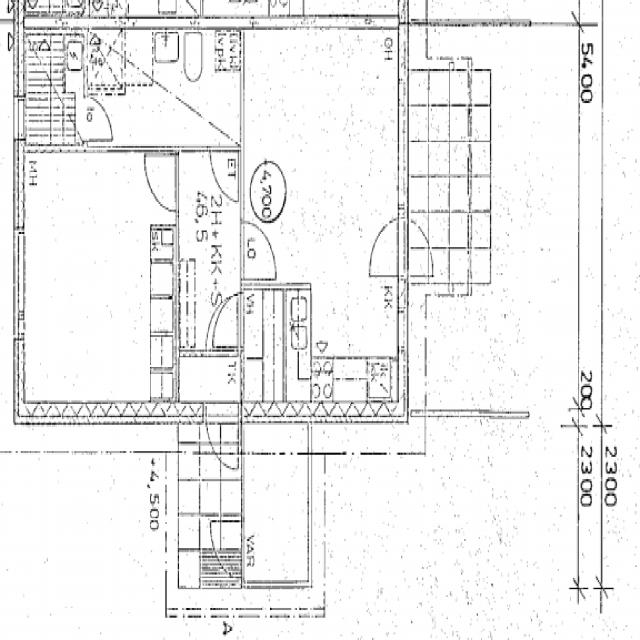door: (364, 218, 408, 276), (398, 218, 442, 276), (206, 400, 238, 477), (240, 223, 278, 279), (207, 521, 244, 577), (142, 155, 178, 210), (206, 296, 238, 357), (210, 294, 244, 347), (211, 146, 238, 199), (83, 96, 114, 140)
